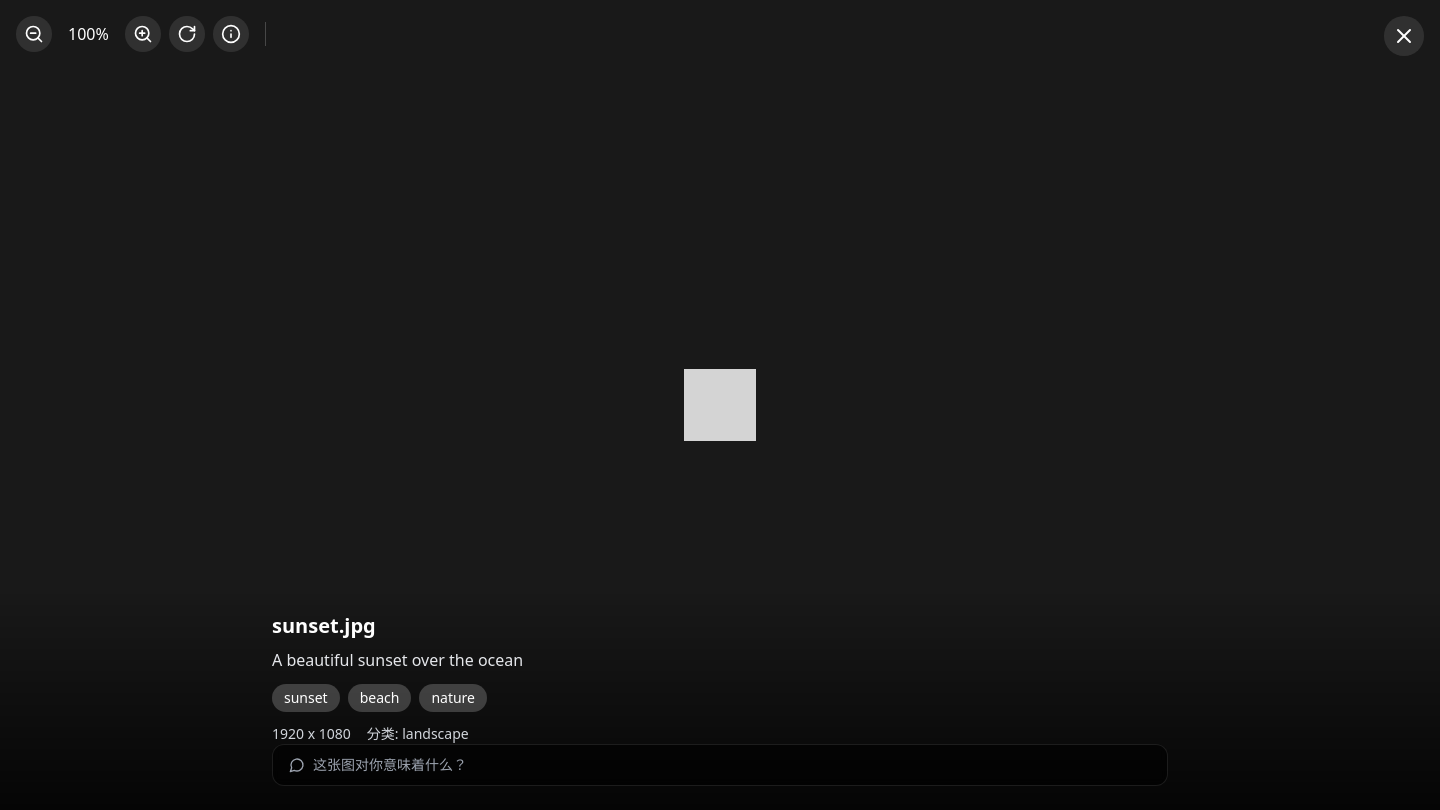
Scenario: ImageViewer › 放大按钮应该增加缩放比例
Expected: the text "100%" is shown, [68, 23, 109, 45]
What coordinates should you click on to do the following:
click the button named "放大"
I would click on:
 (143, 34)
Its box is [125, 16, 161, 52].
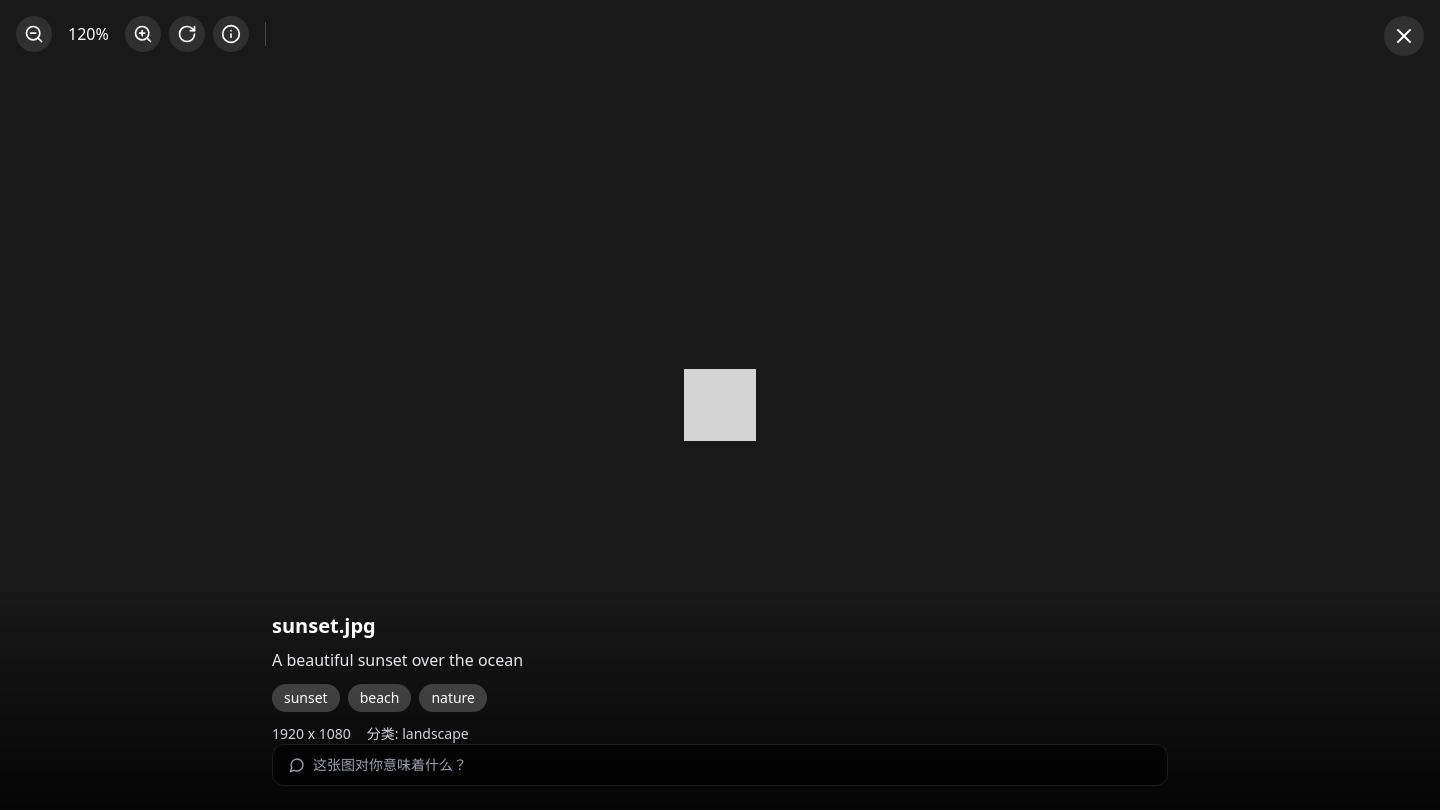
Now the text "120%" is shown, box [68, 23, 109, 45]
